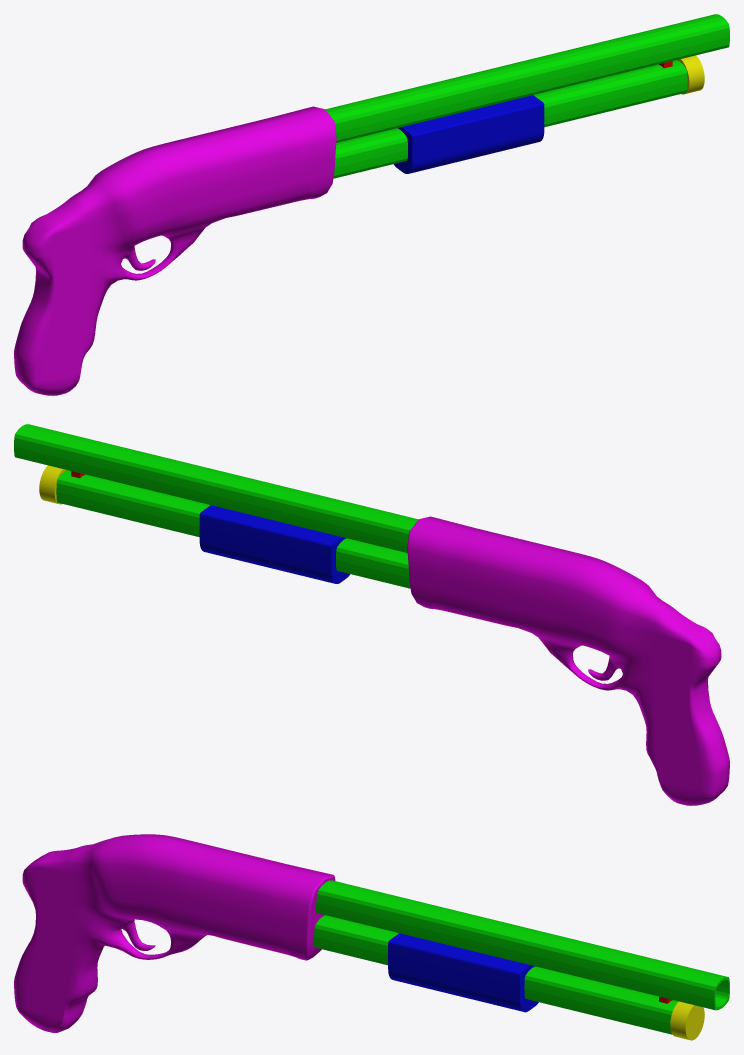
File: Shotgun.fbx
The picture shows the model from 3 angles, top to bottom: view 1: azimuth 30°, elevation 25°; view 2: azimuth 150°, elevation 25°; view 3: azimuth 330°, elevation 25°; orthographic projection.
Parts seen in each view (by area): view 1: Shotgun; view 2: Shotgun; view 3: Shotgun.
Boxes of the visible parts, left/top/right/bottom form: Shotgun: left=14, top=14, right=729, bottom=395; Shotgun: left=14, top=424, right=729, bottom=805; Shotgun: left=14, top=834, right=729, bottom=1040.
Size of the model in its own units: 4.58 by 1.36 by 0.3083.
